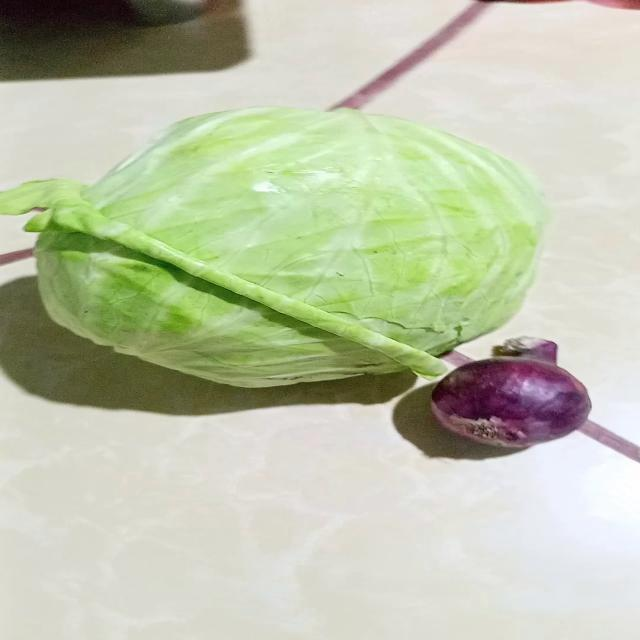cabbage: (0, 109, 540, 390)
onion: (423, 338, 594, 450)
